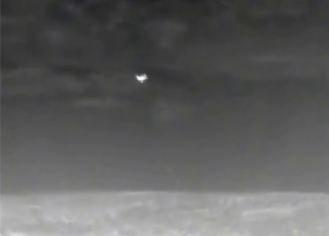Target: (137, 76, 148, 83)
